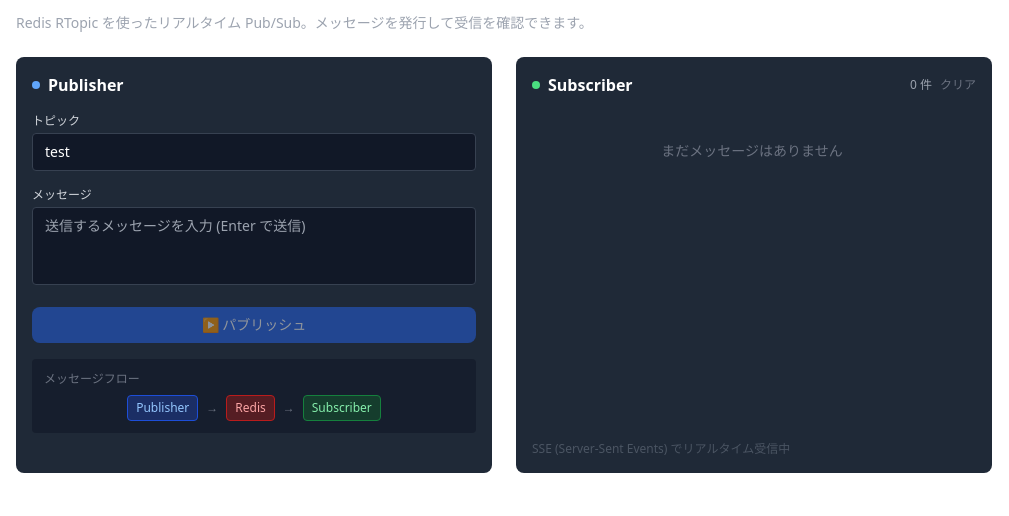
it: PubSubPage › shows error when publish fails
The width and height of the screenshot is (1009, 516).
Step 1. Type "fail message" into the text box with placeholder "送信するメッセージを入力 (Enter で送信)" → [254, 246], box x1=32 y1=207 x2=476 y2=285
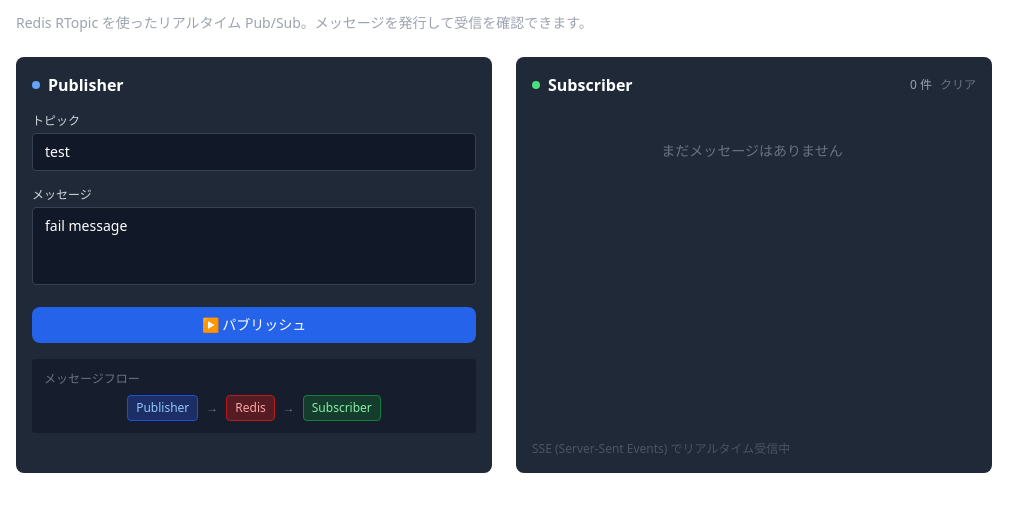
Step 2. Click the button "▶ パブリッシュ" → [254, 325], box x1=32 y1=307 x2=476 y2=343
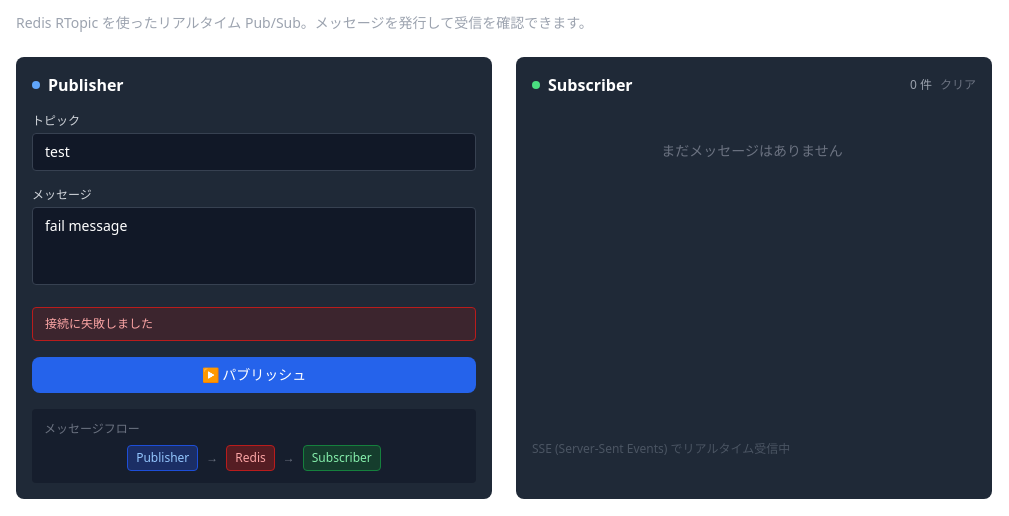
expect the text "接続に失敗しました" is shown: met, box x1=32 y1=307 x2=476 y2=341
